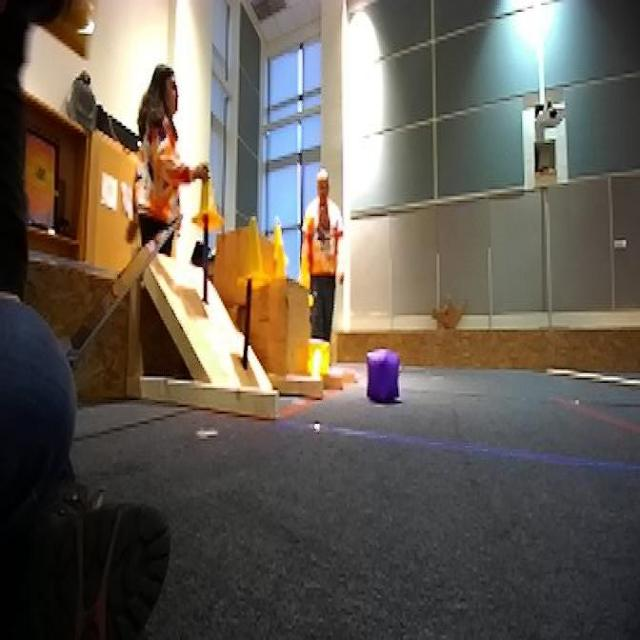frc_cone: (47, 0, 95, 58), (239, 219, 271, 298), (192, 163, 226, 235), (306, 339, 331, 383), (270, 218, 290, 267), (273, 242, 288, 277)
frc_cube: (366, 345, 402, 407)
